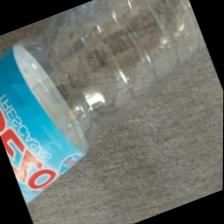plastic: (0, 0, 203, 223)
